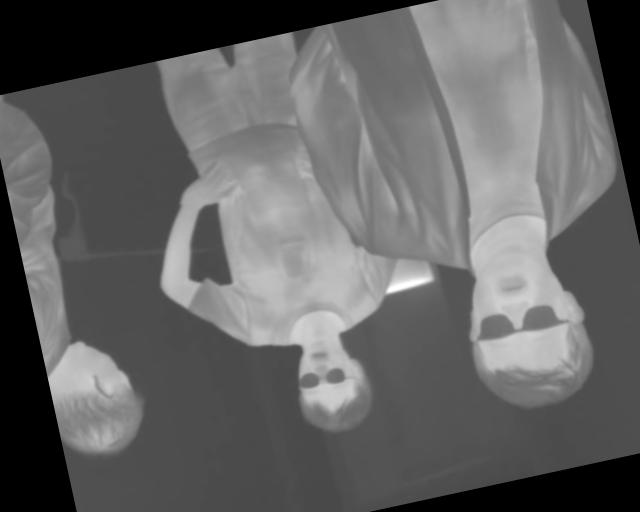face: (451, 235, 602, 420), (285, 330, 379, 440)
